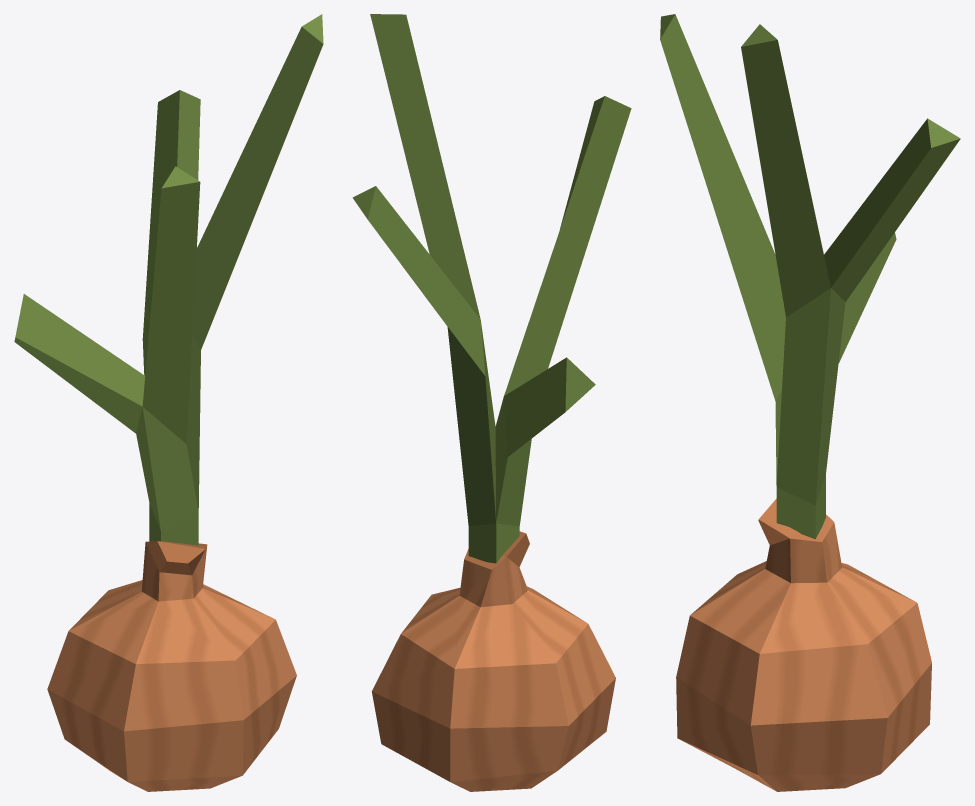
File: onion_plant.glb
3 views of the same model, side by side, from view 1: azimuth 30°, elevation 25°; view 2: azimuth 150°, elevation 25°; view 3: azimuth 270°, elevation 25° (orthographic). The views are drawn at different scales.
Parts seen in each view (by area): view 1: SM_Prop_Onion_01_L; view 2: SM_Prop_Onion_01_L; view 3: SM_Prop_Onion_01_L.
Part boxes in pixels (bbox=[...]): SM_Prop_Onion_01_L: bbox=[14, 14, 323, 791]; SM_Prop_Onion_01_L: bbox=[352, 14, 631, 791]; SM_Prop_Onion_01_L: bbox=[660, 14, 960, 791].
Bounding box in the file's own units: 0.2024 × 0.5322 × 0.1788.
1 material, 1 textured.
